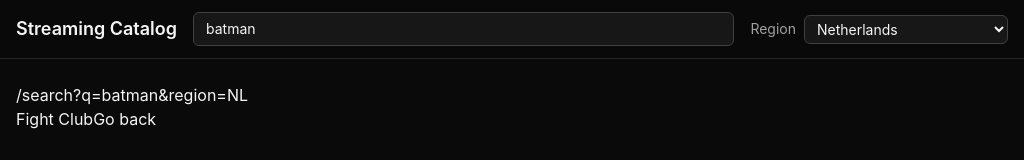
it: Layout › stays on the detail page after a search result is opened
Expected: the search field holds "batman", 193,12 -> 734,46
Click the link "Fight Club" at x=55, y=119, box 16,109 -> 93,129
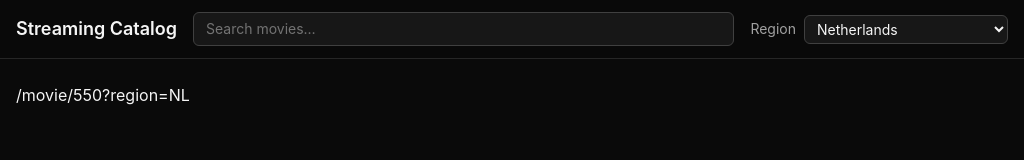
Result: the text with test id "location" reads "/movie/550?region=NL" at 16,85 -> 190,105
